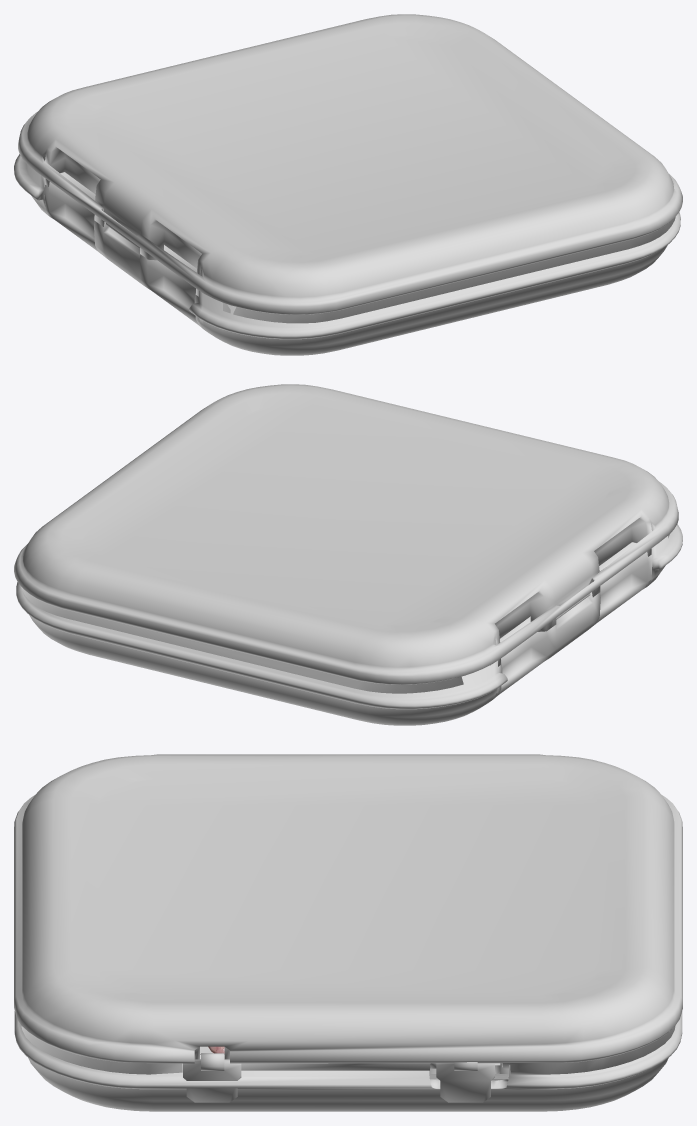
The model's file is beef-nails.glb.
The picture shows the model from 3 angles, top to bottom: view 1: azimuth 30°, elevation 25°; view 2: azimuth 150°, elevation 25°; view 3: azimuth 270°, elevation 25°; orthographic projection. The views are drawn at different scales.
Parts seen in each view (by area): view 1: case; view 2: case; view 3: case.
Part boxes in pixels (x1,y1,x2,y2): case: [14, 14, 682, 355]; case: [14, 384, 682, 725]; case: [14, 754, 682, 1111].
Size of the model in its own units: 0.8439 by 0.1513 by 0.8443.
2 materials, 1 textured.
